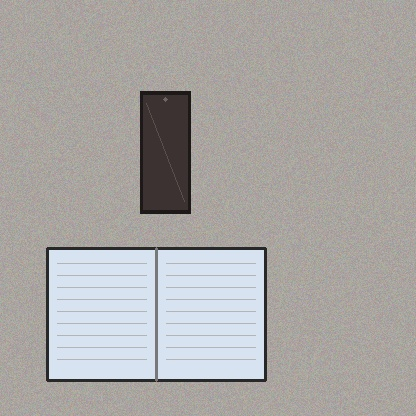book: (47, 248, 265, 380)
cell_phone: (140, 91, 190, 213)
